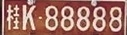K: (23, 5, 36, 30)
